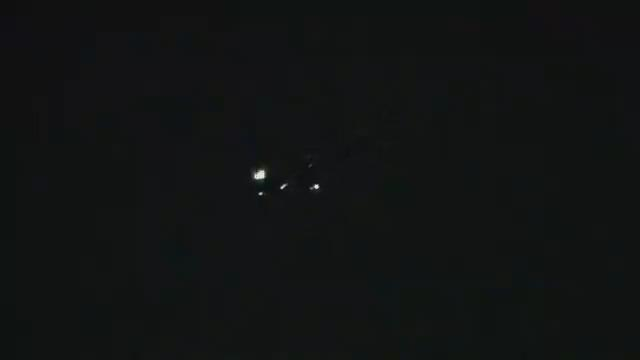Plane: (192, 145, 369, 206)
